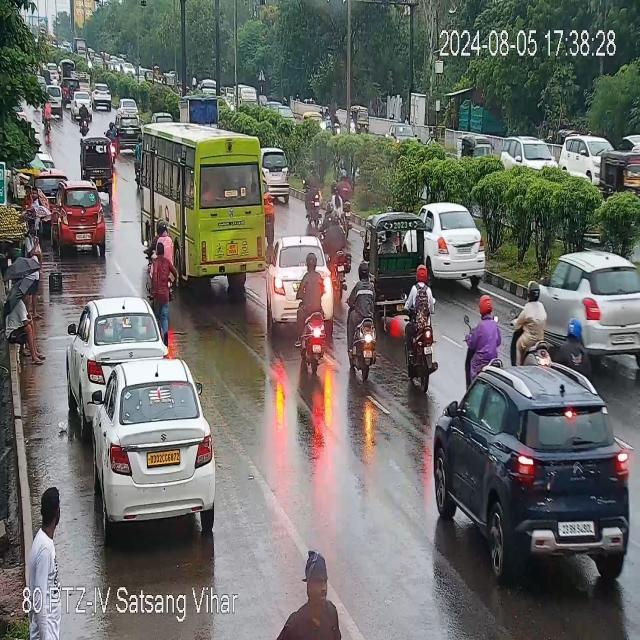2-wheelers: (399, 266, 440, 390), (347, 252, 379, 386), (462, 288, 502, 380), (298, 250, 326, 375), (510, 269, 545, 363), (44, 98, 51, 138), (136, 132, 141, 186), (109, 122, 117, 155), (80, 102, 88, 133)
auto: (369, 215, 424, 299), (601, 148, 640, 196), (602, 152, 640, 201), (77, 134, 115, 182), (458, 134, 497, 168)
bus: (133, 118, 270, 285)
car: (432, 364, 634, 564), (92, 356, 214, 524), (546, 249, 636, 362), (67, 296, 163, 396), (424, 200, 490, 280), (51, 183, 104, 250), (268, 230, 298, 322), (262, 150, 292, 200), (117, 111, 139, 145), (90, 85, 114, 111)
pedestrian: (282, 550, 340, 640), (30, 488, 74, 578), (4, 288, 47, 364), (154, 246, 174, 341), (28, 220, 42, 313), (158, 222, 175, 265), (31, 187, 41, 218), (26, 182, 31, 214)
truck: (184, 90, 224, 127)
